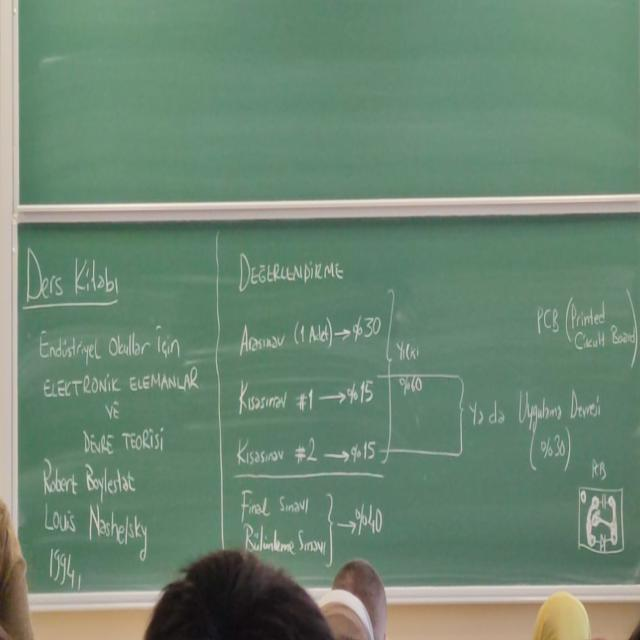image: (568, 453, 630, 562)
math: (352, 486, 389, 540), (344, 367, 376, 416), (348, 308, 385, 350), (346, 434, 382, 466), (396, 368, 426, 400)
text: (38, 324, 203, 404), (40, 454, 148, 552), (466, 380, 608, 433), (240, 484, 334, 564), (21, 238, 123, 309), (537, 293, 637, 359), (233, 246, 345, 296), (78, 395, 166, 454), (236, 314, 334, 361), (235, 373, 321, 420), (235, 429, 326, 471), (391, 334, 427, 368)
